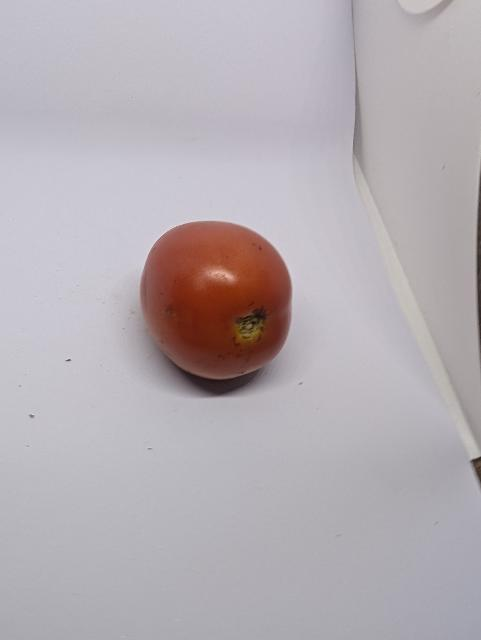red: (133, 217, 303, 386)
